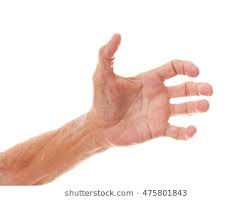hand: (80, 22, 219, 166)
